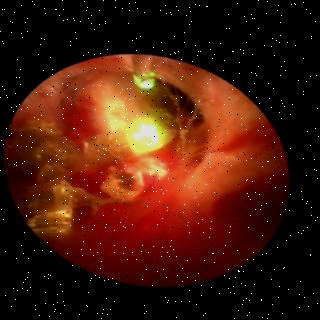laser: (127, 116, 165, 149), (134, 73, 155, 86)
stone: (31, 168, 149, 238), (14, 121, 132, 180)
tissue: (61, 62, 286, 280)
